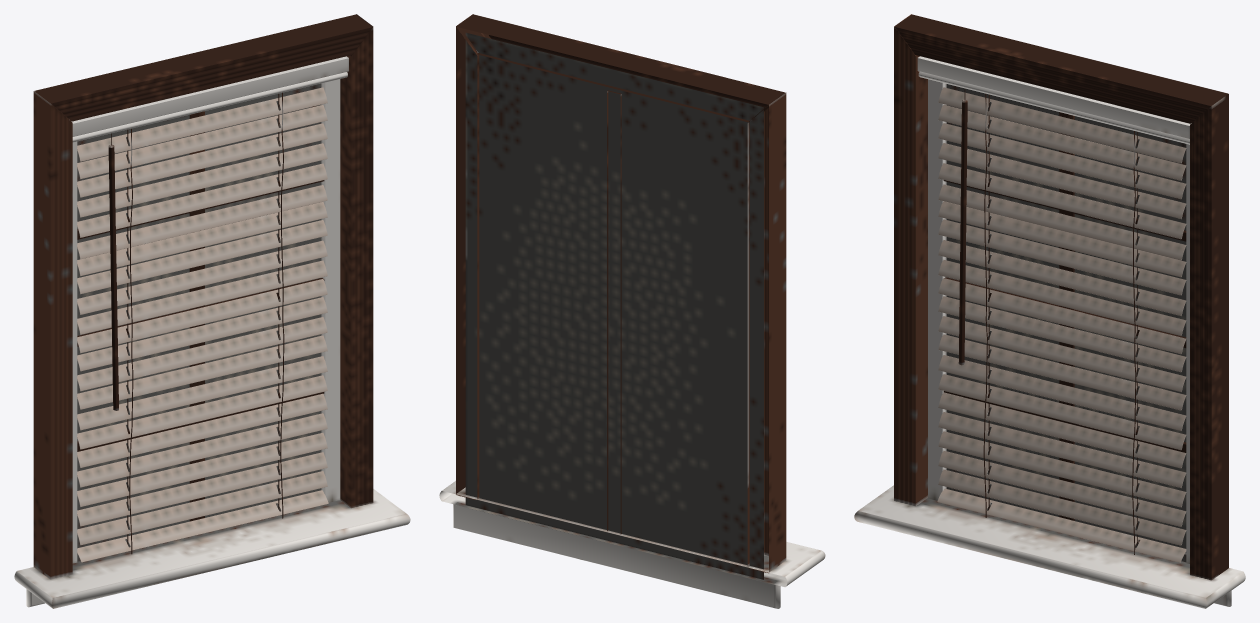
Rendered from window.fbx.
3 renders of one model, left to right at view 1: azimuth 30°, elevation 25°; view 2: azimuth 150°, elevation 25°; view 3: azimuth 330°, elevation 25°, orthographic.
Parts seen in each view (by area): view 1: window; view 2: window; view 3: window.
Part boxes in pixels (x1,y1,x2,y2): window: (14,14,410,608); window: (439,14,825,608); window: (854,14,1245,608).
Bounding box in the file's own units: 104 × 143 × 20.41.
1 material, 1 textured.
